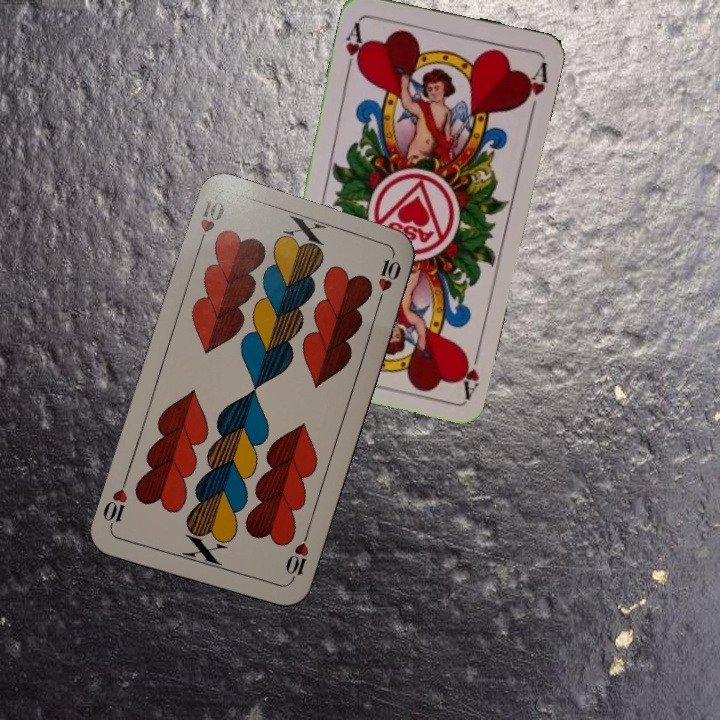H10: (192, 193, 227, 253), (281, 529, 312, 586)
HA: (453, 340, 483, 399), (341, 15, 369, 74)
